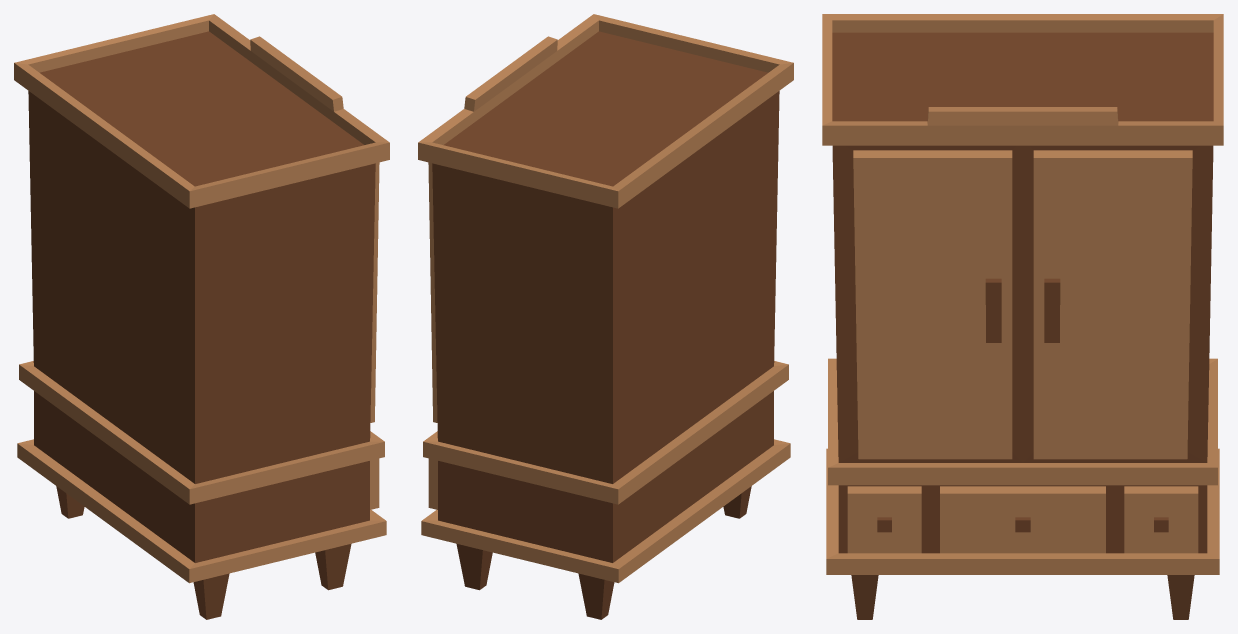
The model's file is Closet2.glb.
3 renders of one model, left to right at view 1: azimuth 30°, elevation 25°; view 2: azimuth 150°, elevation 25°; view 3: azimuth 270°, elevation 25°, orthographic. The views are drawn at different scales.
Bounding box in the file's own units: 0.4755 × 0.9958 × 0.6895.
